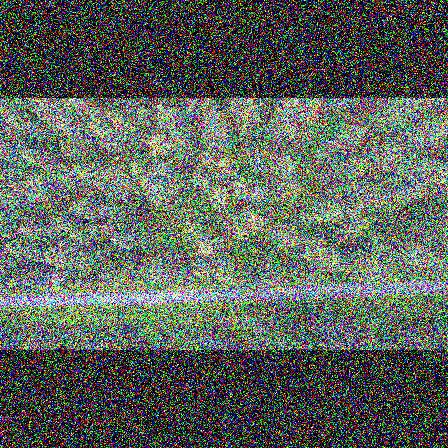Dead: (44, 266, 75, 289)
Sick: (242, 176, 271, 205), (245, 146, 270, 174), (196, 149, 224, 170), (336, 217, 359, 242), (49, 214, 66, 232)
